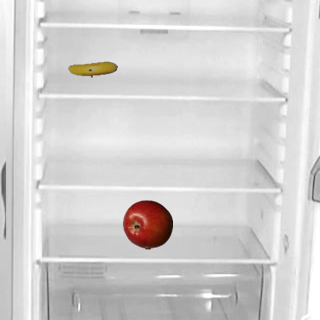Apple Braeburn: (122, 199, 172, 249)
Banana: (67, 44, 117, 94)
